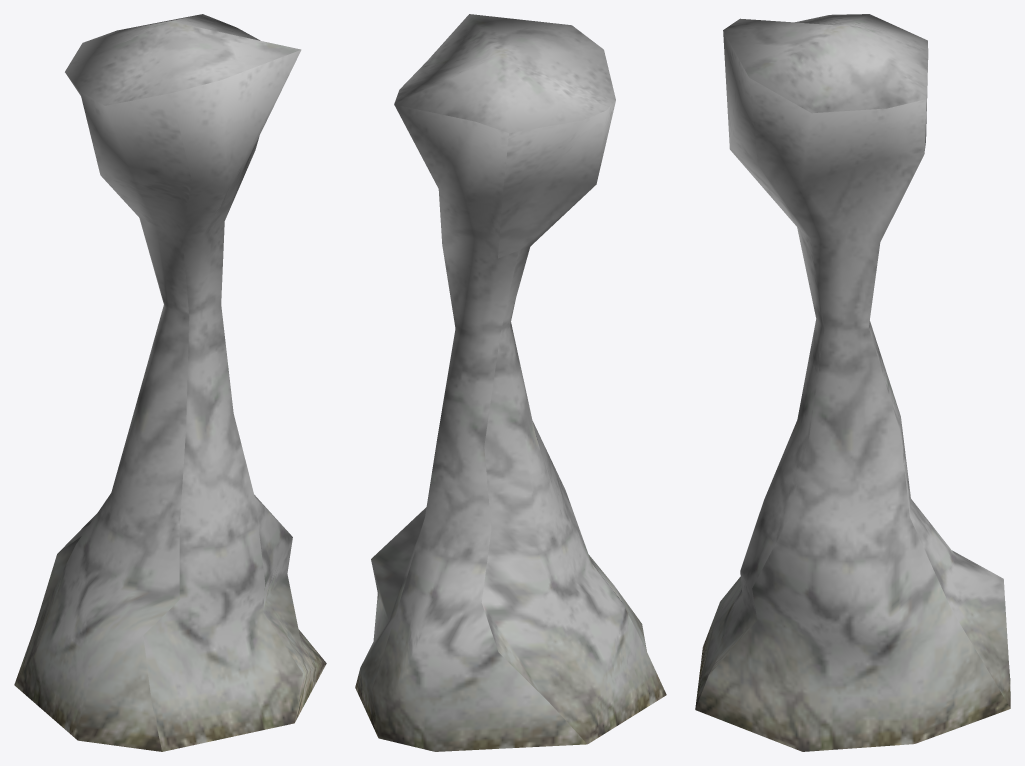
File: general_obj_bigstone04.fbx
3 views of the same model, side by side, from view 1: azimuth 30°, elevation 25°; view 2: azimuth 150°, elevation 25°; view 3: azimuth 270°, elevation 25° (orthographic). The views are drawn at different scales.
Parts seen in each view (by area): view 1: Sphere01; view 2: Sphere01; view 3: Sphere01.
Boxes of the visible parts, box(x1,y1,x2,y2) form: Sphere01: box(14, 14, 326, 751); Sphere01: box(355, 14, 666, 751); Sphere01: box(695, 14, 1010, 751).
Size of the model in its own units: 15.99 by 37.77 by 16.35.
